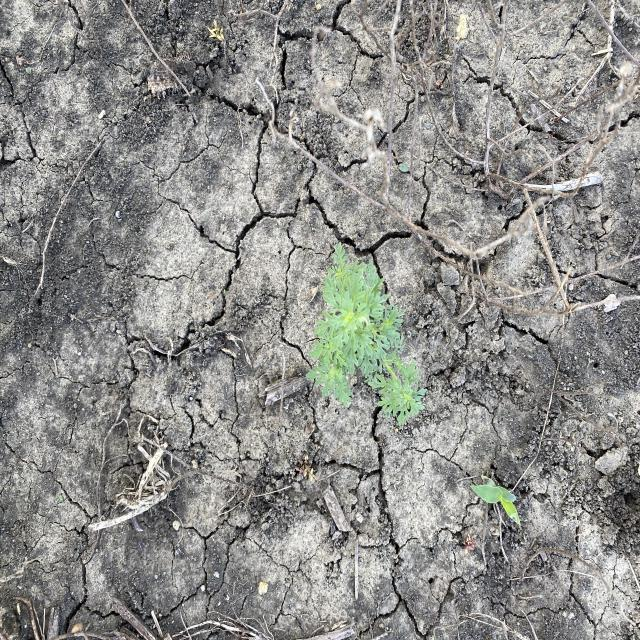Ragweed: (302, 241, 430, 428)
